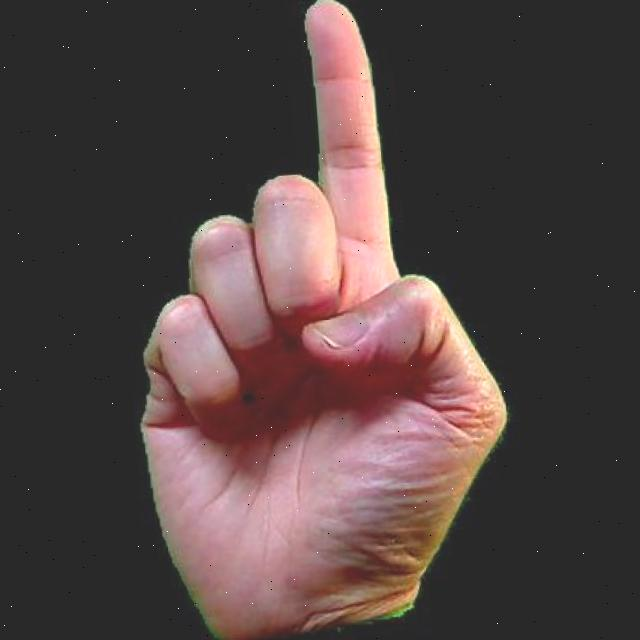d: (103, 0, 532, 640)
